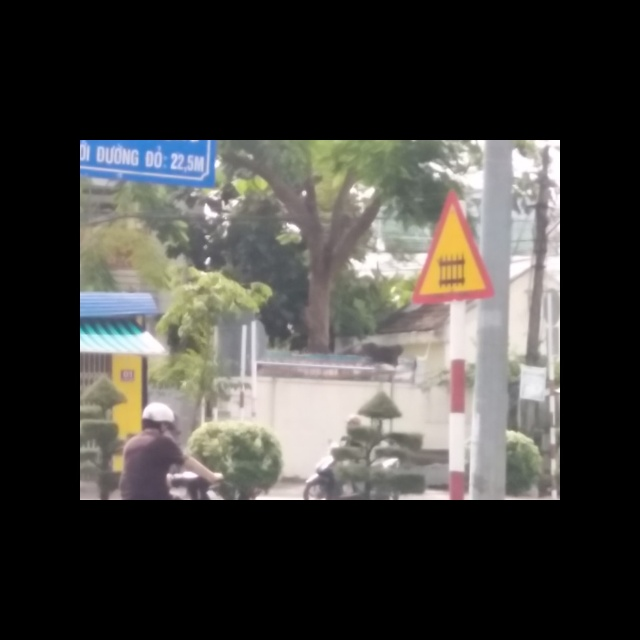Giao nhau với đường sắt có rào chắn: (408, 189, 498, 304)
